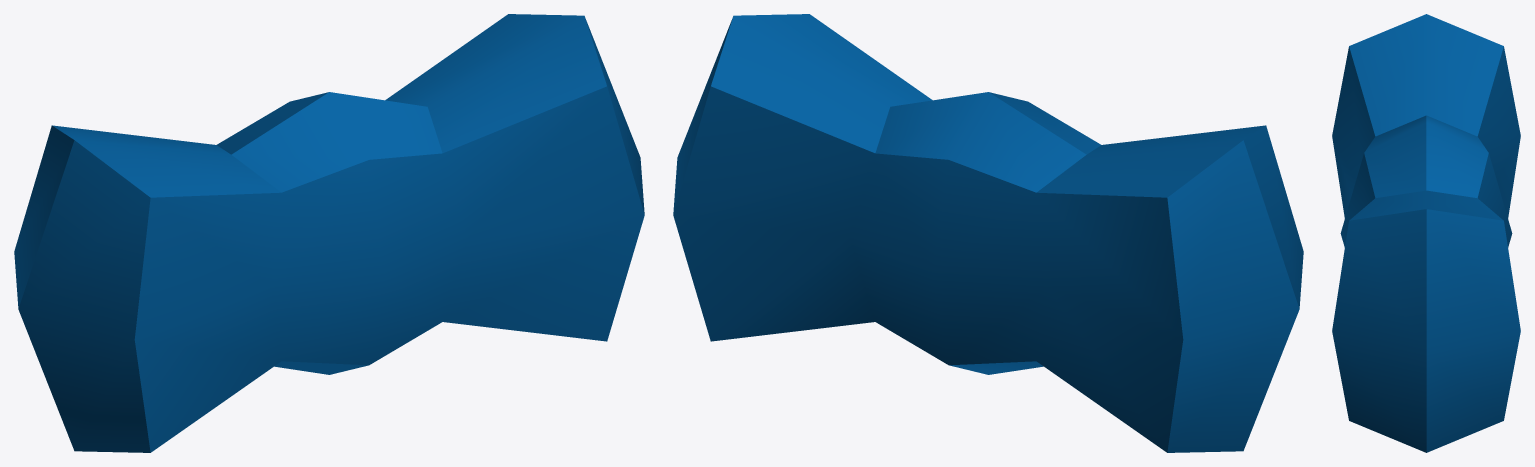
The model's file is Body_Prop_Cooking_Bow_Tie_01_C02.fbx.
3 views of the same model, side by side, from view 1: azimuth 30°, elevation 25°; view 2: azimuth 150°, elevation 25°; view 3: azimuth 270°, elevation 25° (orthographic). The views are drawn at different scales.
Parts seen in each view (by area): view 1: Body_Prop_Cooking_Bow_Tie_01_C02; view 2: Body_Prop_Cooking_Bow_Tie_01_C02; view 3: Body_Prop_Cooking_Bow_Tie_01_C02.
Part boxes in pixels (x1,y1,x2,y2): Body_Prop_Cooking_Bow_Tie_01_C02: [14, 14, 644, 452]; Body_Prop_Cooking_Bow_Tie_01_C02: [673, 14, 1303, 452]; Body_Prop_Cooking_Bow_Tie_01_C02: [1332, 14, 1520, 452].
Size of the model in its own units: 41.68 by 19.92 by 13.98.
